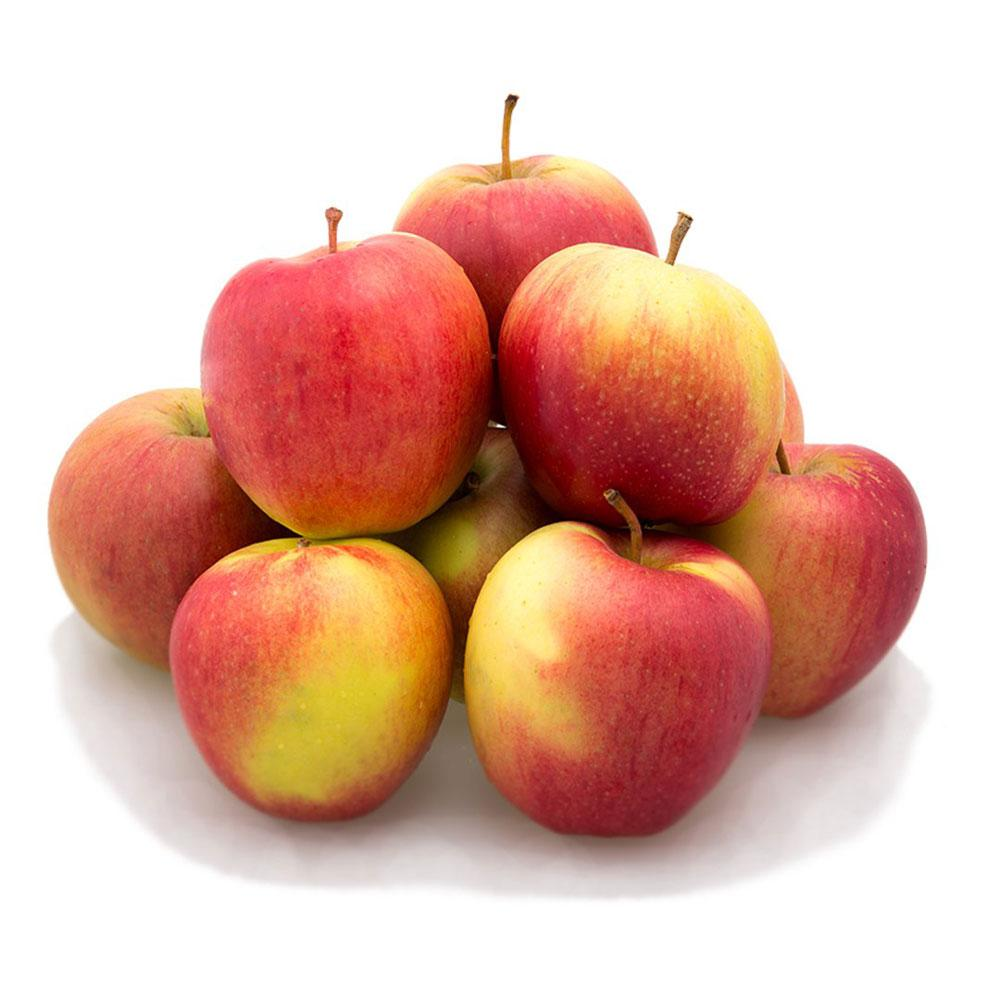apples: (162, 201, 520, 521), (500, 521, 808, 857), (489, 209, 796, 543), (712, 431, 950, 767), (165, 534, 453, 803), (402, 82, 669, 372), (21, 381, 247, 697)
